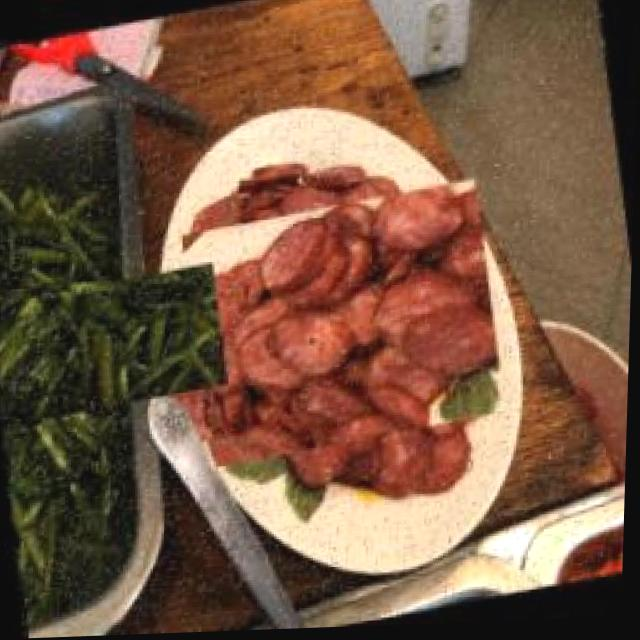chinese_sausage: (189, 167, 504, 484)
water_spinach: (0, 219, 190, 478)
